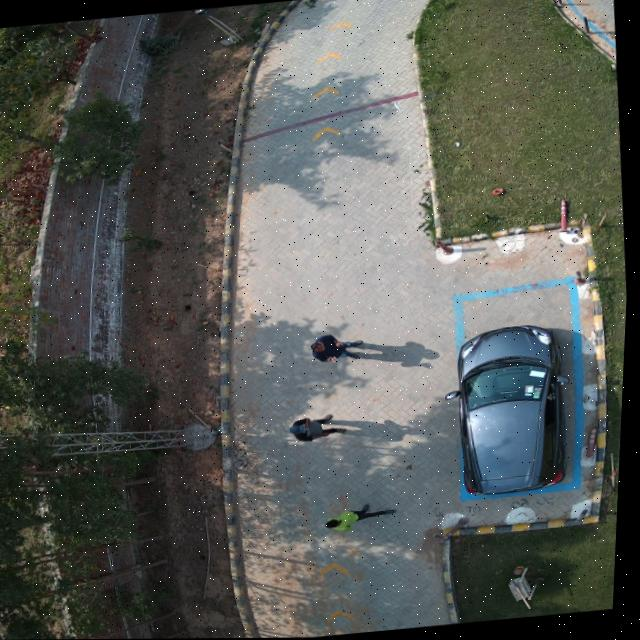car: (468, 329, 570, 496)
